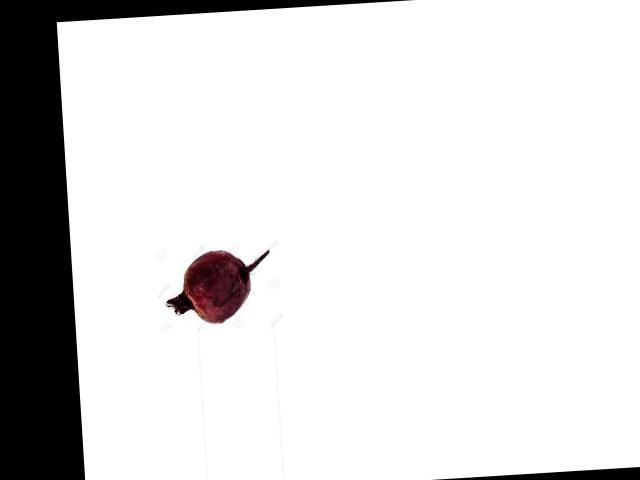beet: (162, 246, 273, 325)
